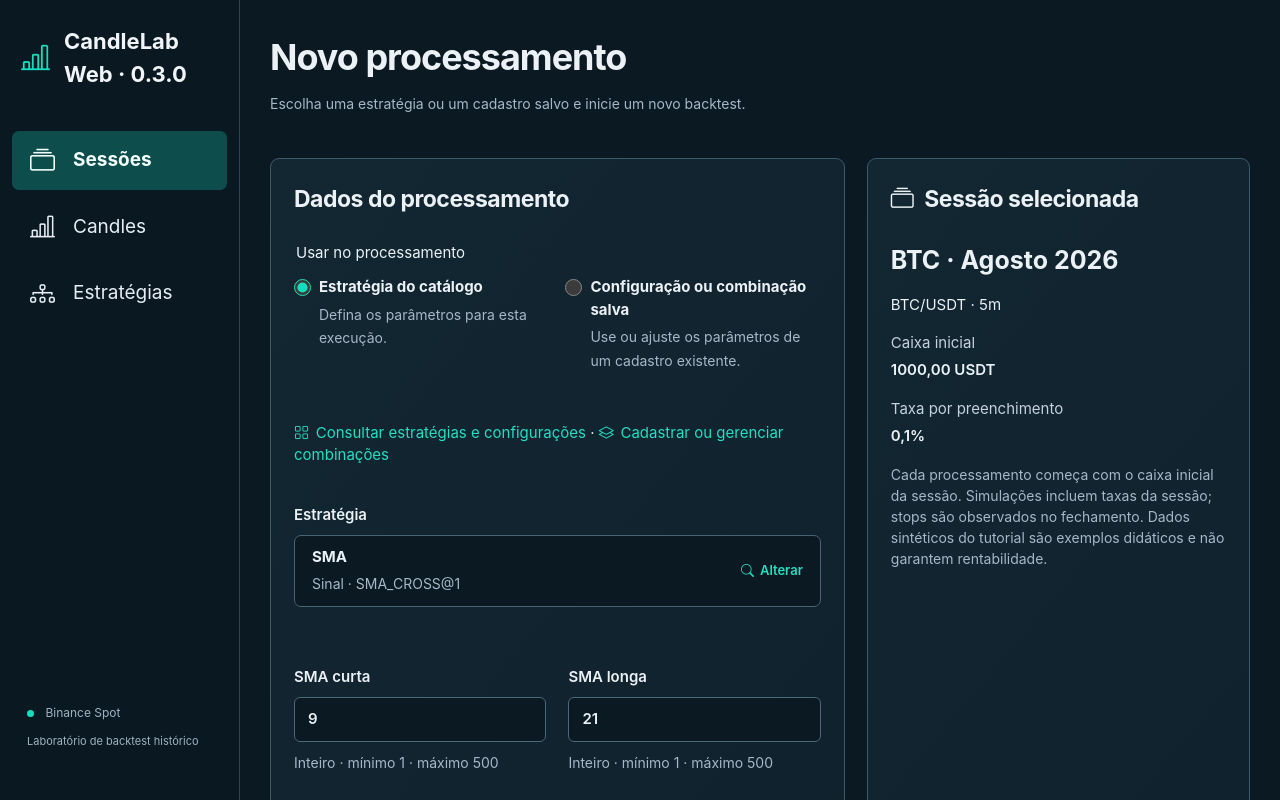
preserva o retorno ao processamento pelo catálogo, detalhes e filtros
Step 1. Click the link "Consultar estratégias e configurações" → coordinates (440, 432), box [294, 423, 586, 442]
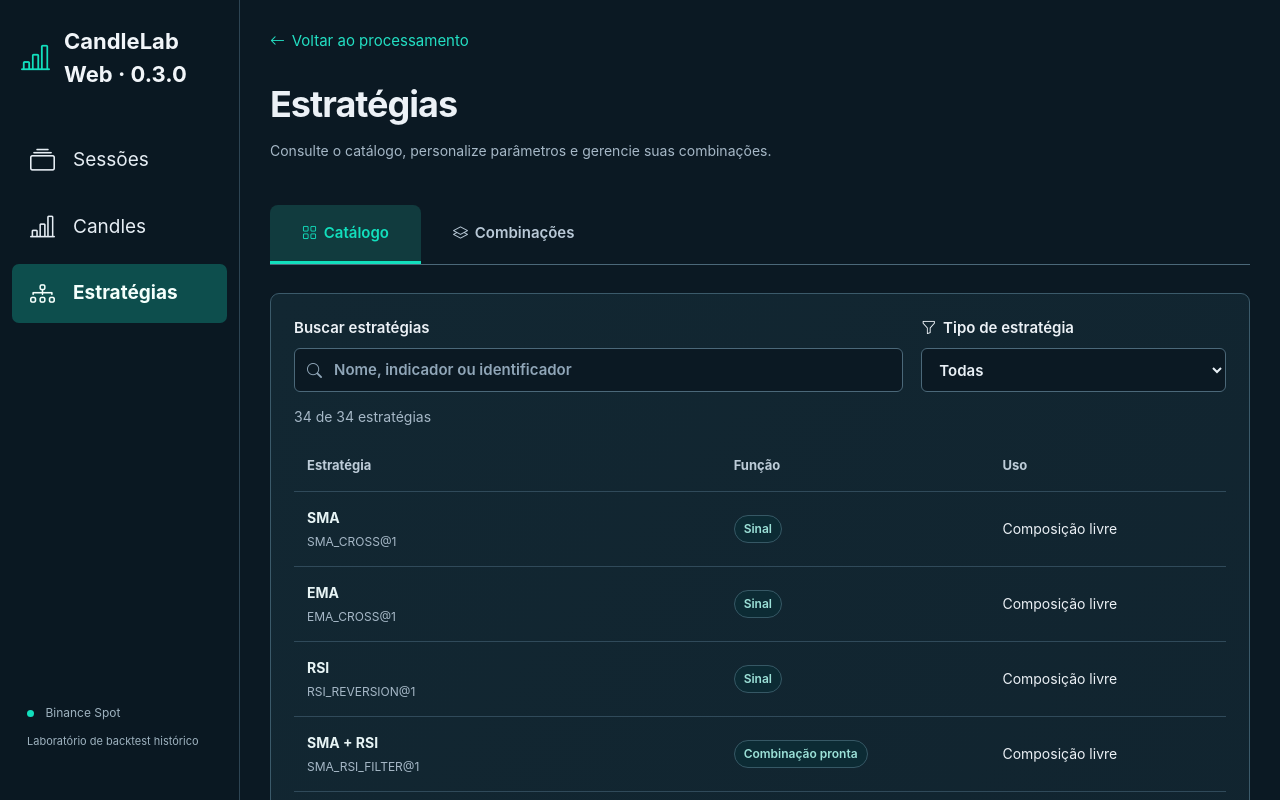
Step 2. Type "SMA" into the search field labelled "Buscar estratégias" → coordinates (599, 370), box [294, 348, 903, 392]
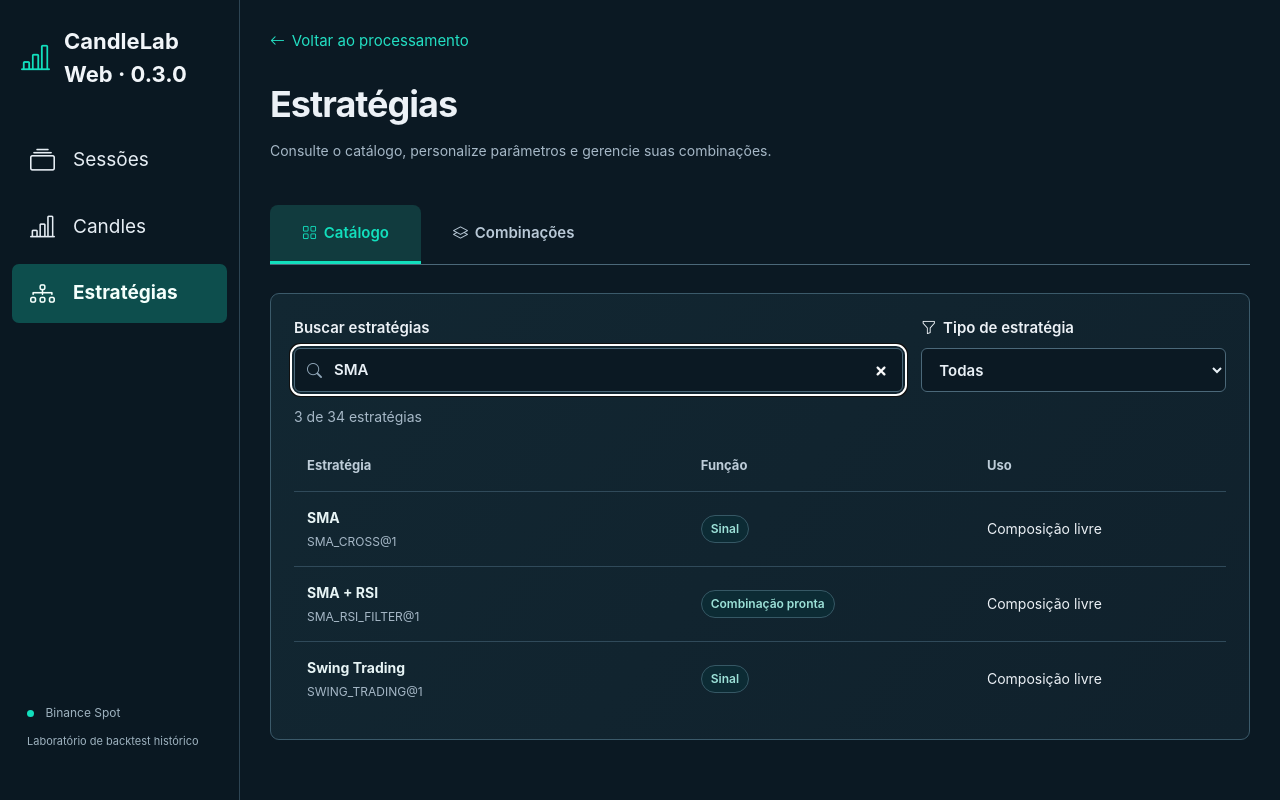
Step 3. Click the link "SMA" → coordinates (323, 517), box [307, 509, 340, 526]
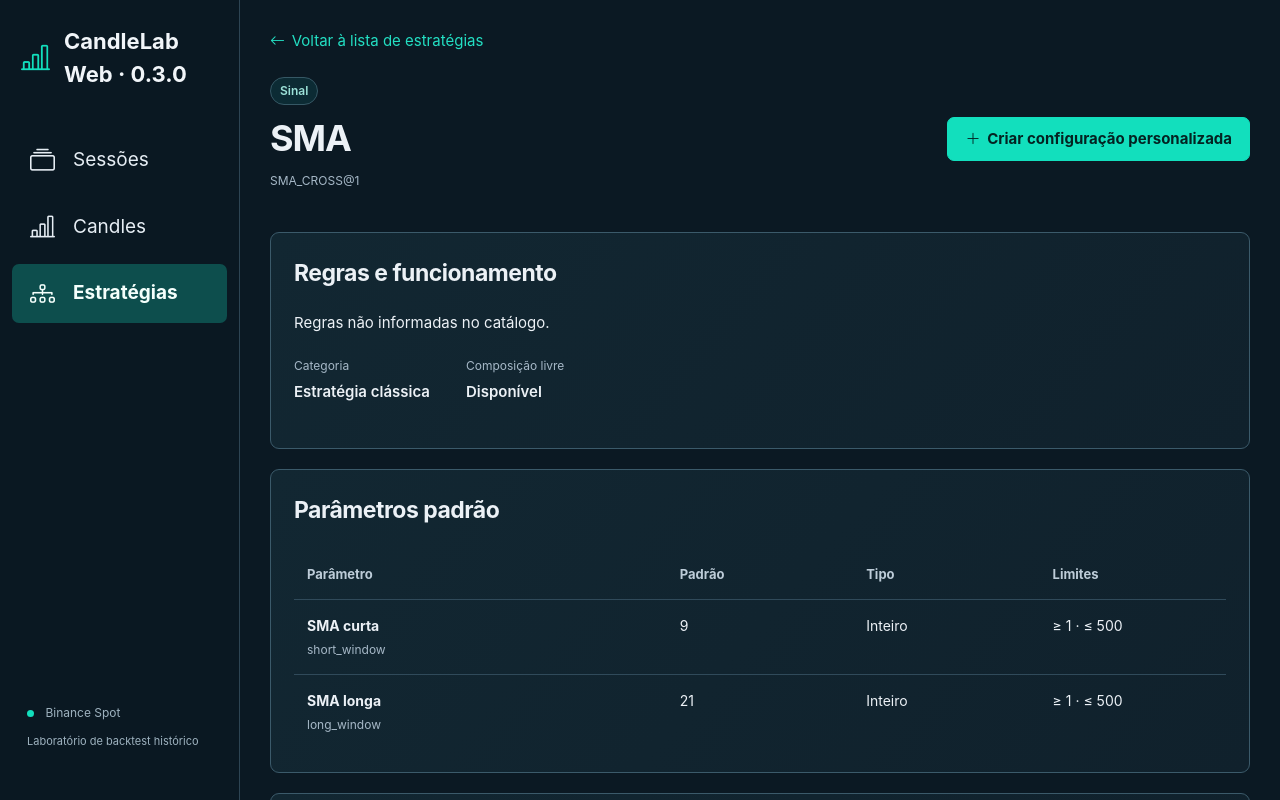
Now the heading "SMA" is shown, box [270, 116, 359, 160]
Step 4. Click the link "Voltar à lista de estratégias" → coordinates (377, 41), box [270, 30, 483, 52]
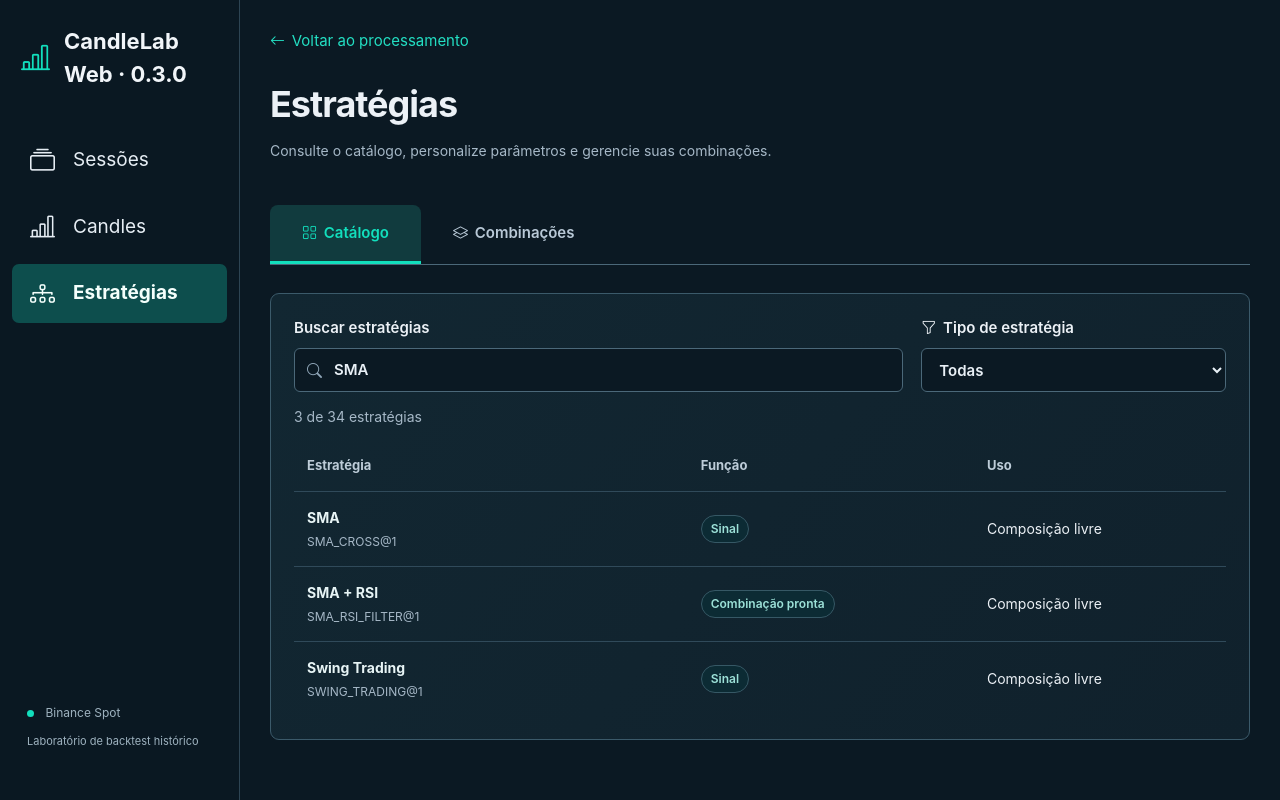
Now the search field labelled "Buscar estratégias" holds "SMA", box [294, 348, 903, 392]
Step 5. Click the link "Voltar ao processamento" → coordinates (369, 41), box [270, 30, 469, 52]
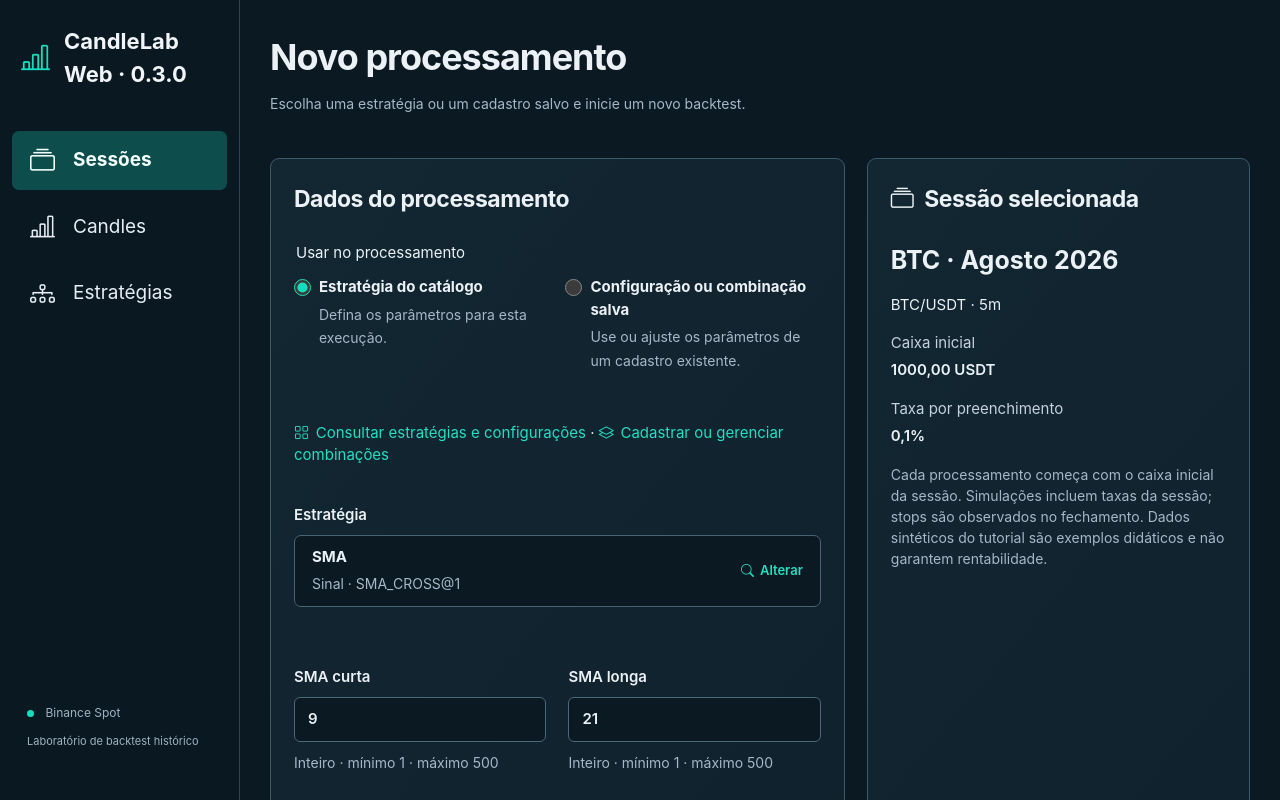
Now the heading "Novo processamento" is shown, box [270, 35, 626, 79]
